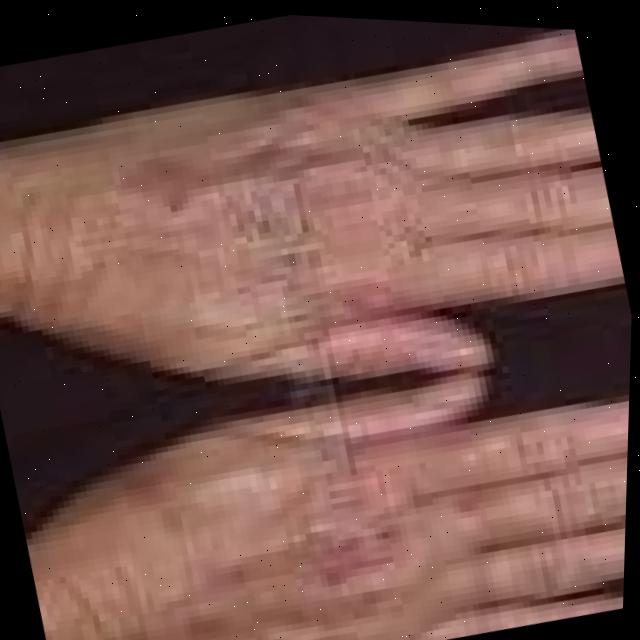Melasma: (175, 146, 372, 360), (228, 475, 463, 640)
